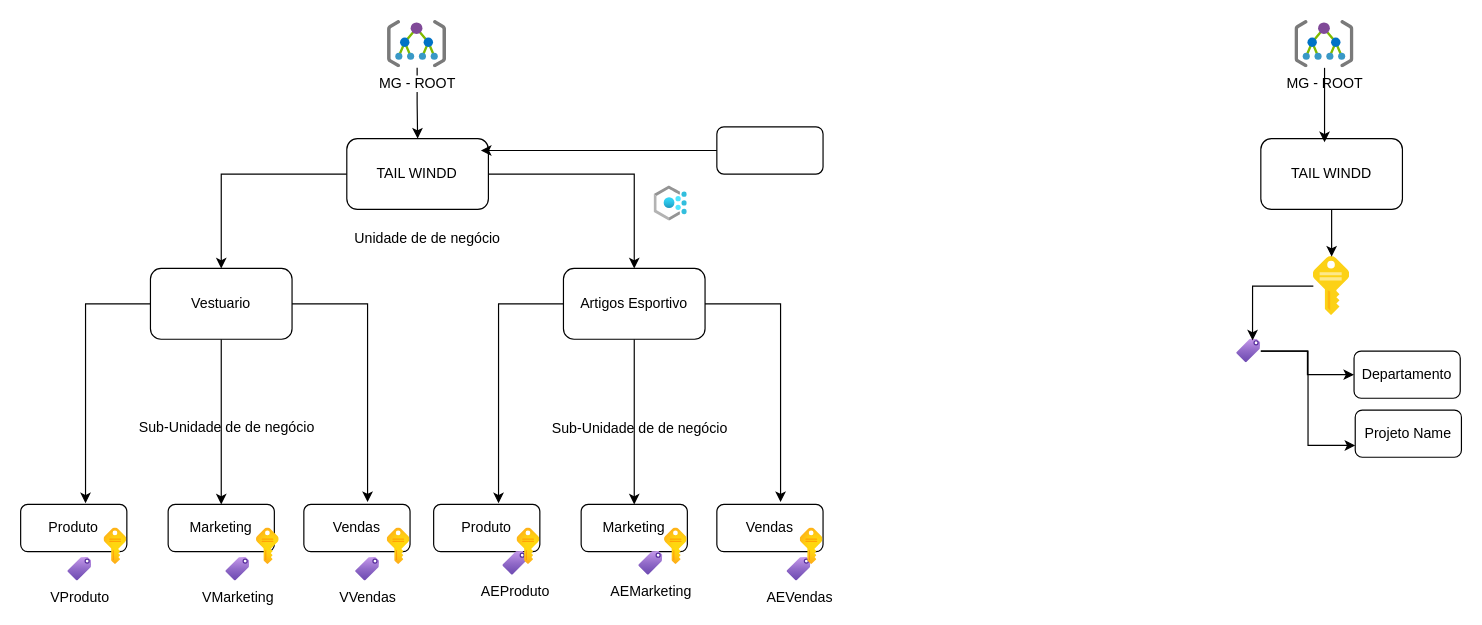
Image size: 1482x625. Some labels were removed from this diagram. The shapes that lost their labels are listed below. From the top down, each one's centre as x and y in pixels, then its label:
At point (769, 150): "TI".
At point (670, 203): "Policy tamanho de SKU`s Policy para criar TAG que identifique o Departamento".
At point (1248, 350): "Tags".
